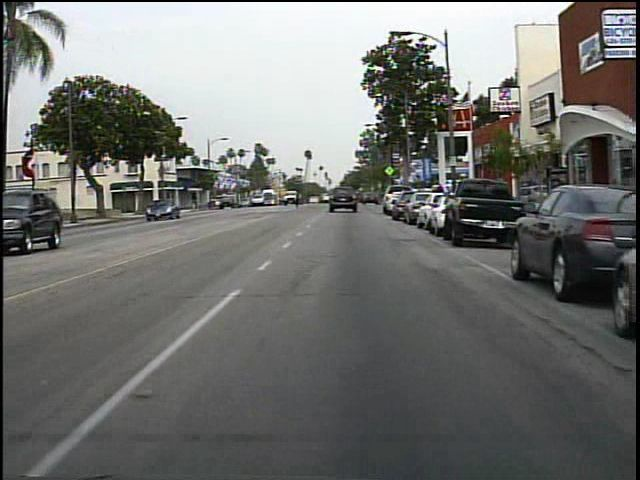person: (431, 180, 450, 218), (292, 185, 306, 212)
